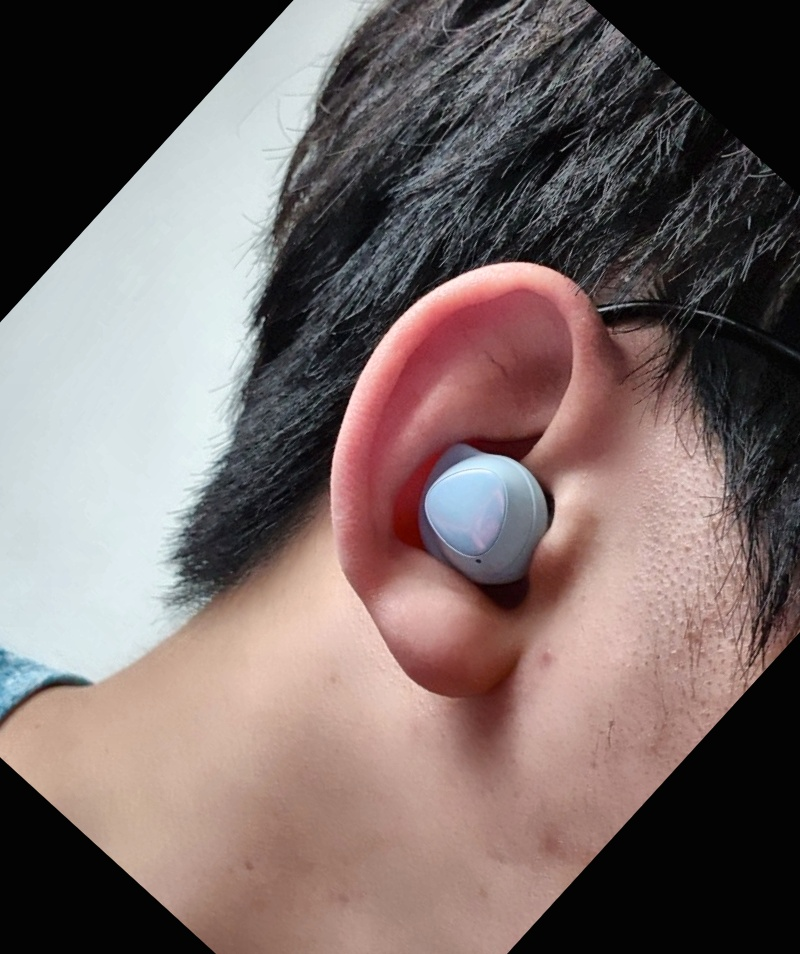earphone: (224, 213, 739, 733)
